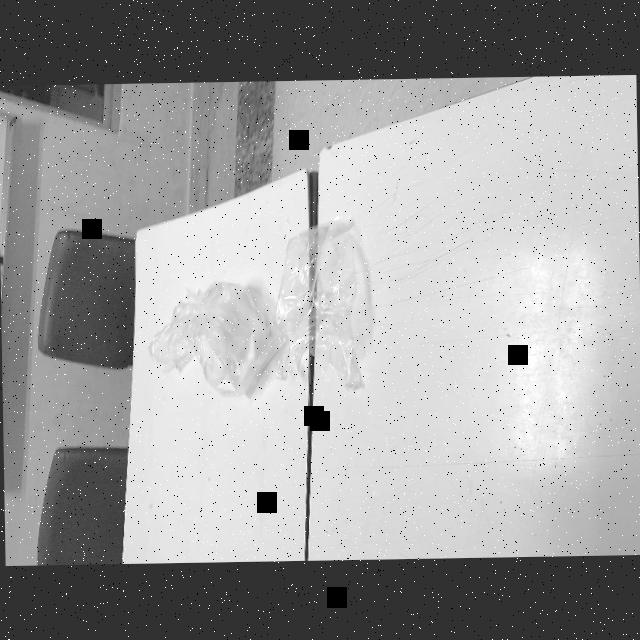plastic_bag: (268, 212, 374, 404), (185, 262, 272, 419)
scrap_plastic: (144, 277, 198, 374)
